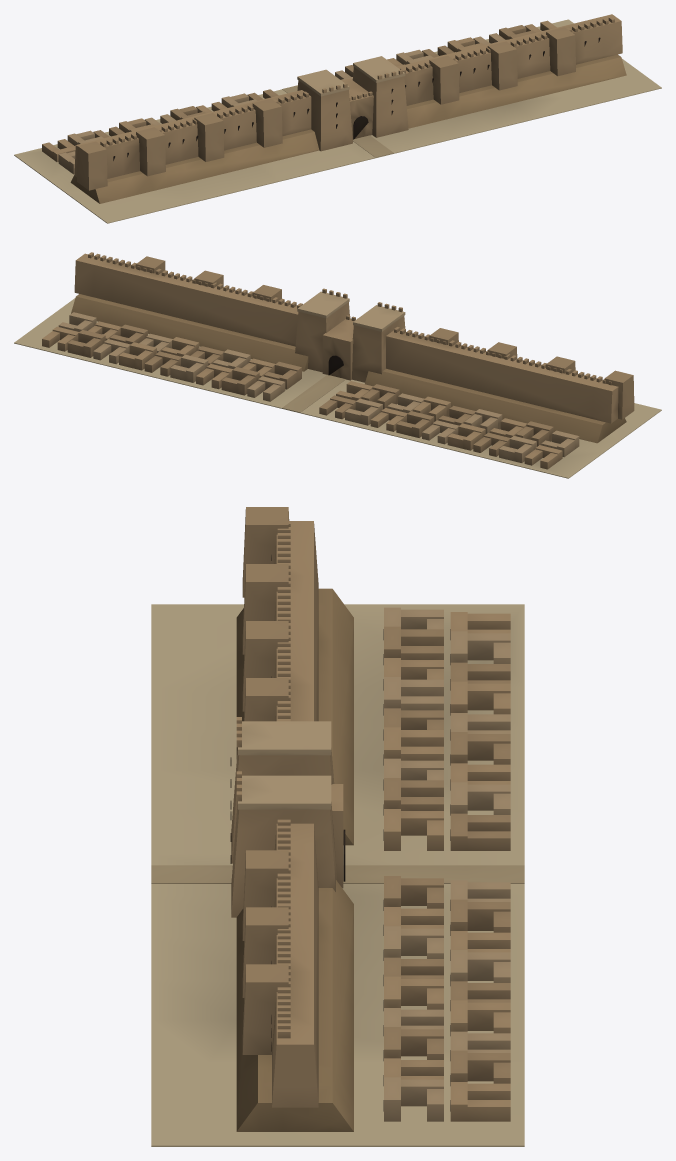
Rendered from gyaur-kala-walls.glb.
3 views of the same model, one above another, from view 1: azimuth 30°, elevation 25°; view 2: azimuth 150°, elevation 25°; view 3: azimuth 270°, elevation 25° (orthographic). The views are drawn at different scales.
Visible parts, largest first — view 1: p1_walls, p0_ground, p2_gate, p3_houses; view 2: p1_walls, p3_houses, p0_ground, p2_gate; view 3: p0_ground, p3_houses, p1_walls, p2_gate.
Boxes of the visible parts, box(x1,y1,x2,y2) form: p1_walls: box(70, 14, 626, 203); p0_ground: box(14, 19, 661, 223); p2_gate: box(297, 56, 408, 151); p3_houses: box(42, 20, 556, 174); p1_walls: box(71, 252, 634, 443); p3_houses: box(42, 312, 579, 469); p0_ground: box(14, 298, 661, 478); p2_gate: box(295, 288, 405, 382); p0_ground: box(151, 604, 524, 1146); p3_houses: box(383, 607, 510, 1121); p1_walls: box(236, 507, 353, 1131); p2_gate: box(230, 717, 345, 917).
Bounding box in the file's own units: 240 × 24.9 × 69.99.
